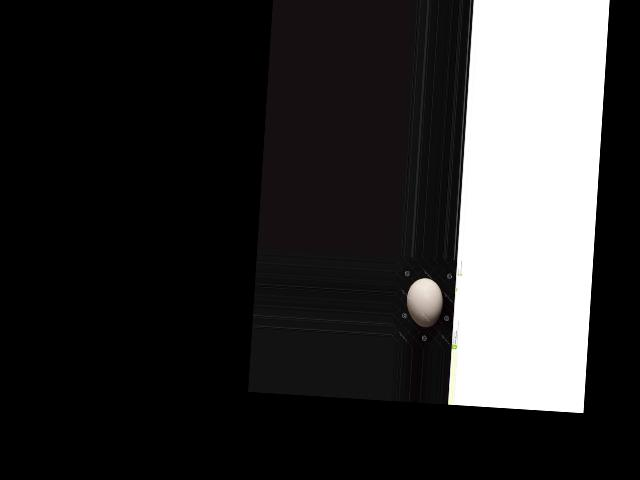egg: (405, 276, 444, 328)
